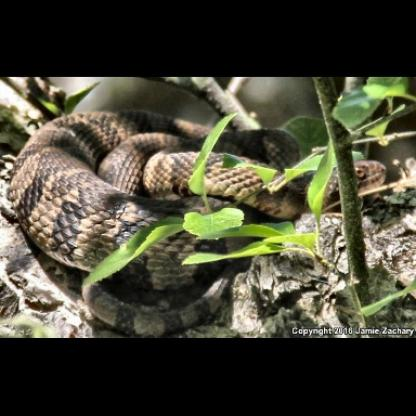Snake: (4, 113, 408, 306)
